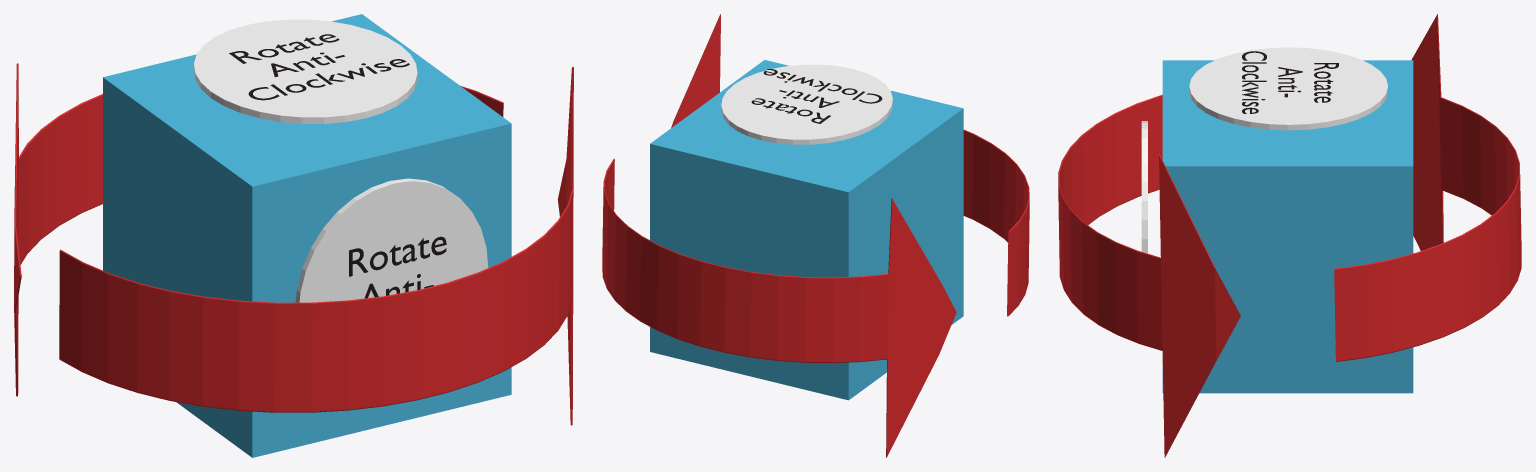
The model's file is RotateAC.glb.
3 views of the same model, side by side, from view 1: azimuth 30°, elevation 25°; view 2: azimuth 150°, elevation 25°; view 3: azimuth 270°, elevation 25° (orthographic). The views are drawn at different scales.
Visible parts, largest first — view 1: Cube.001, Torus, Cylinder.001, Cylinder.002, Text, Text.001; view 2: Cube.001, Torus, Cylinder.001, Text; view 3: Torus, Cube.001, Cylinder.001, Text, Cylinder.002.
Part boxes in pixels (x1,y1,x2,y2): Cube.001: [103, 14, 511, 457]; Torus: [14, 63, 573, 425]; Cylinder.001: [194, 19, 417, 123]; Cylinder.002: [295, 178, 488, 302]; Text: [229, 34, 409, 100]; Text.001: [349, 236, 446, 298]; Cube.001: [650, 60, 963, 400]; Torus: [602, 14, 1029, 457]; Cylinder.001: [721, 64, 892, 144]; Text: [751, 69, 882, 123]; Torus: [1058, 14, 1521, 457]; Cube.001: [1162, 60, 1413, 393]; Cylinder.001: [1189, 47, 1387, 130]; Text: [1242, 51, 1338, 113]; Cylinder.002: [1141, 121, 1147, 253].
Bounding box in the file's own units: 2.97 × 2.14 × 2.96.
